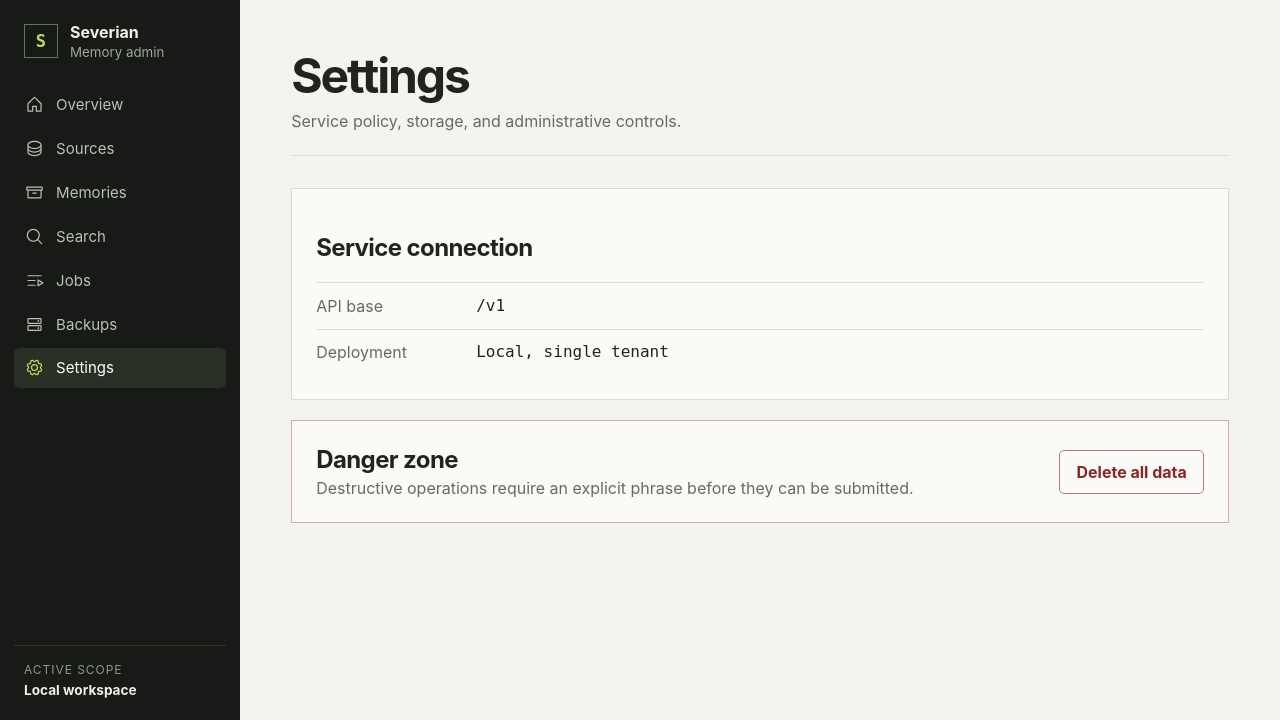
Severian admin shell › requires typed confirmation before enabling a destructive action
The image size is (1280, 720).
Click the button "Delete all data": x=1132, y=472 [1060,450,1204,494]
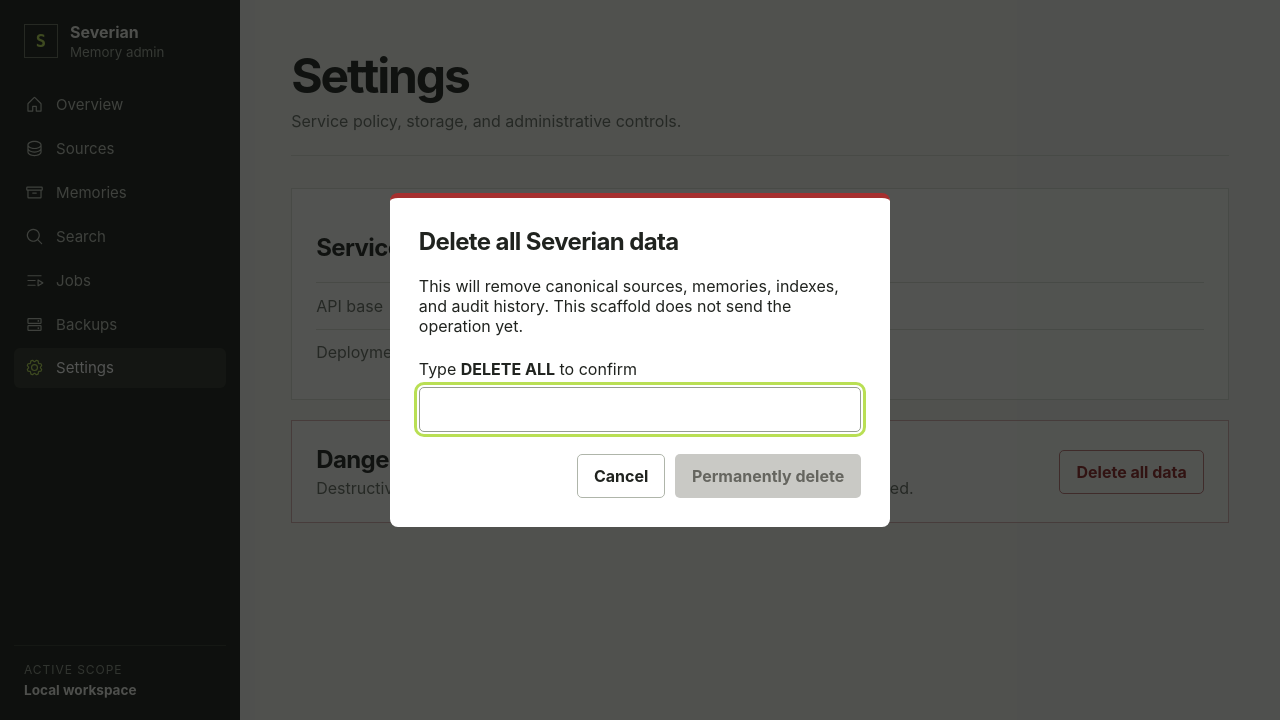
Expected: the button "Permanently delete" is disabled, [675,454,861,498]
In the field labelled "Type DELETE ALL to confirm": x=640, y=409 [419,387,861,432], type "DELETE ALL"
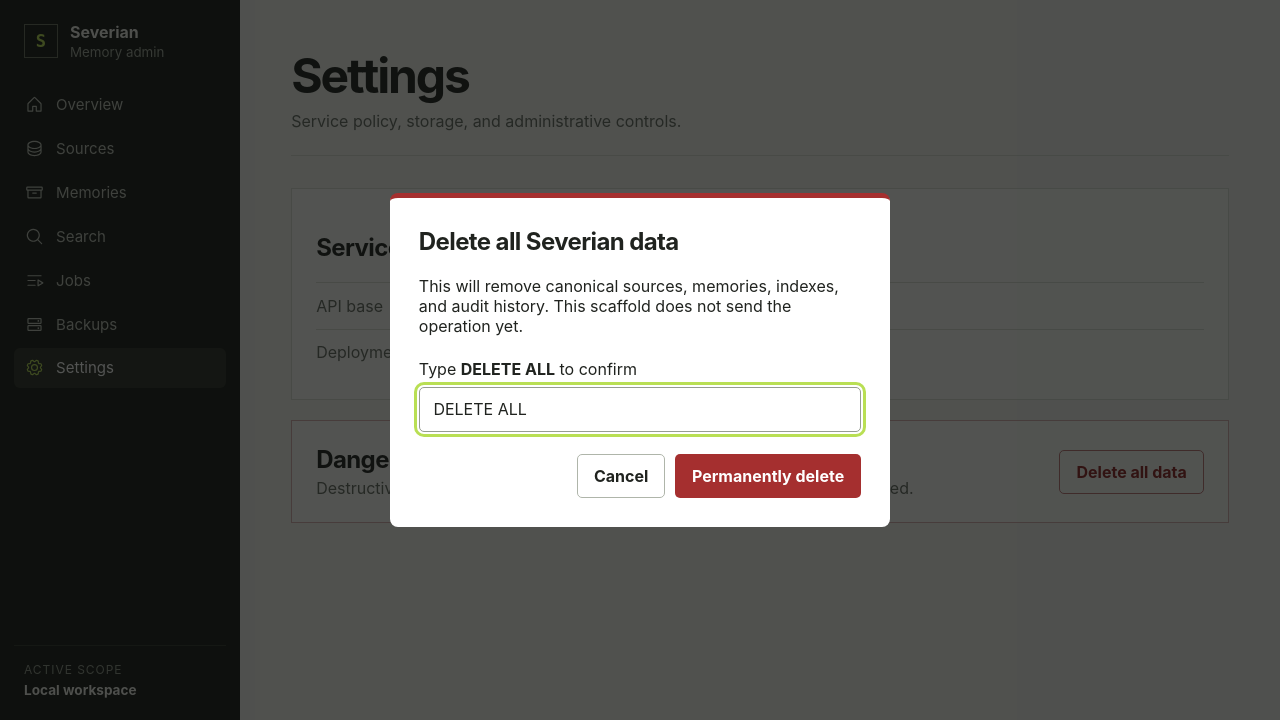
Expected: the button "Permanently delete" is enabled, [675,454,861,498]
Click the button "Cancel": x=621, y=476 [577,454,665,498]
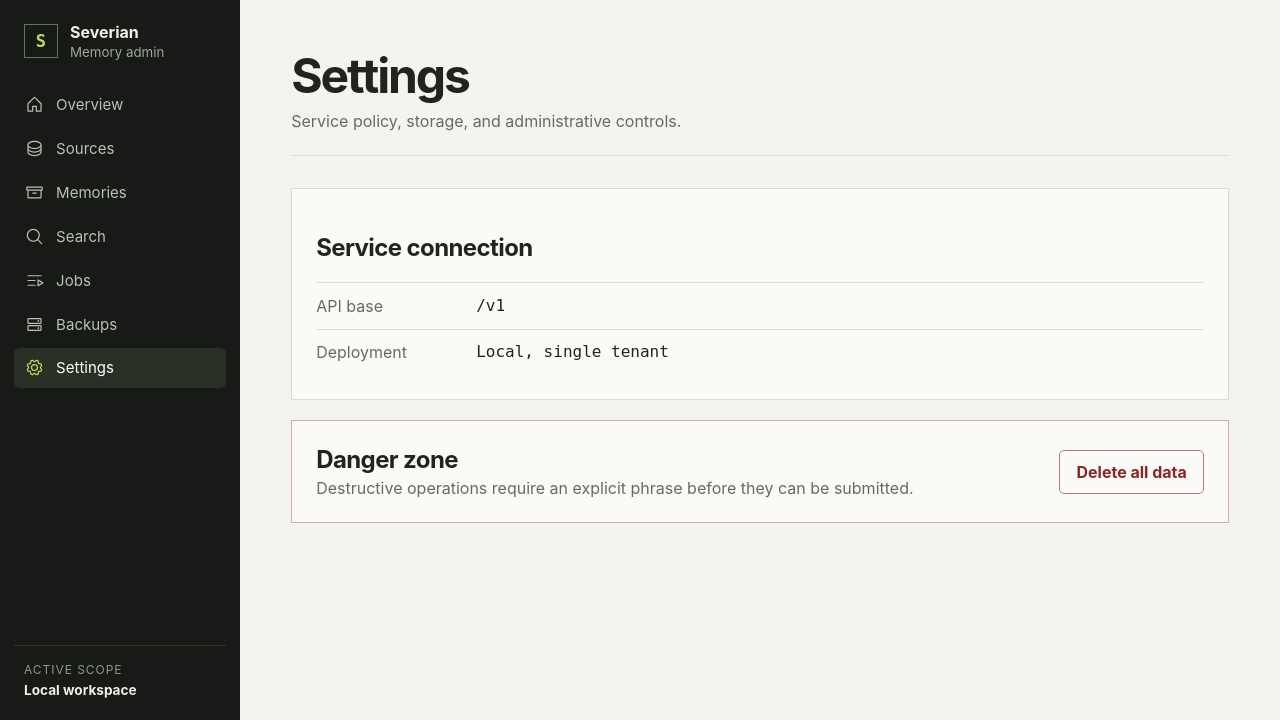
Expected: the heading "Delete all Severian data" is gone
